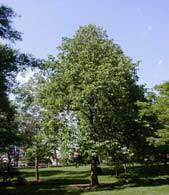tree: (37, 21, 143, 188)
